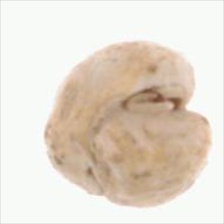L3: (120, 79, 199, 117)
L4: (42, 41, 211, 208)
